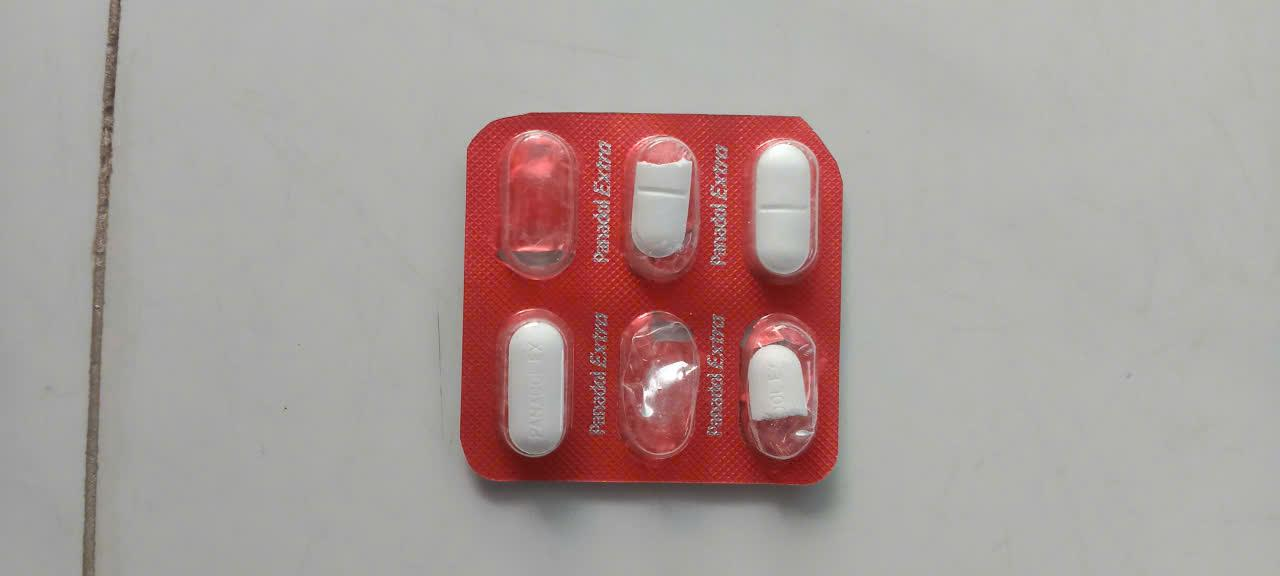Empty: (497, 122, 582, 289), (619, 305, 704, 472)
Full: (495, 301, 580, 468), (744, 127, 829, 294)
Partial: (619, 129, 705, 296), (741, 304, 826, 471)
